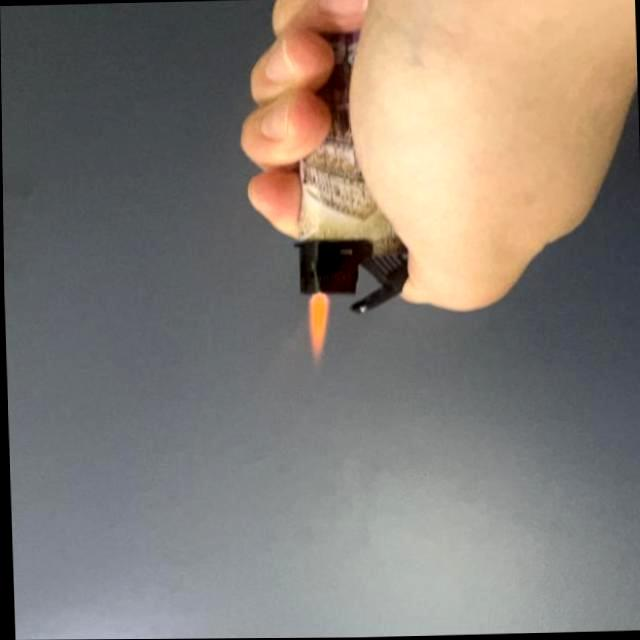fire: (302, 295, 332, 365)
